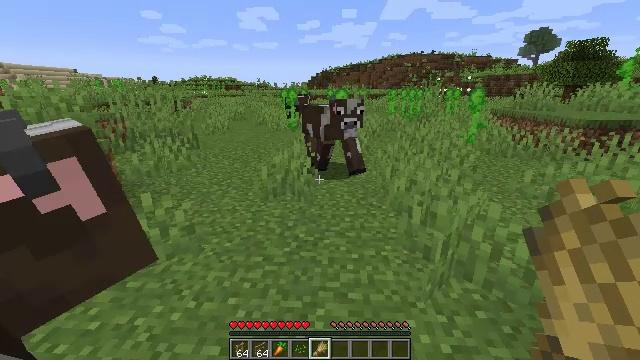cow: (0, 110, 160, 360), (300, 99, 367, 176)
